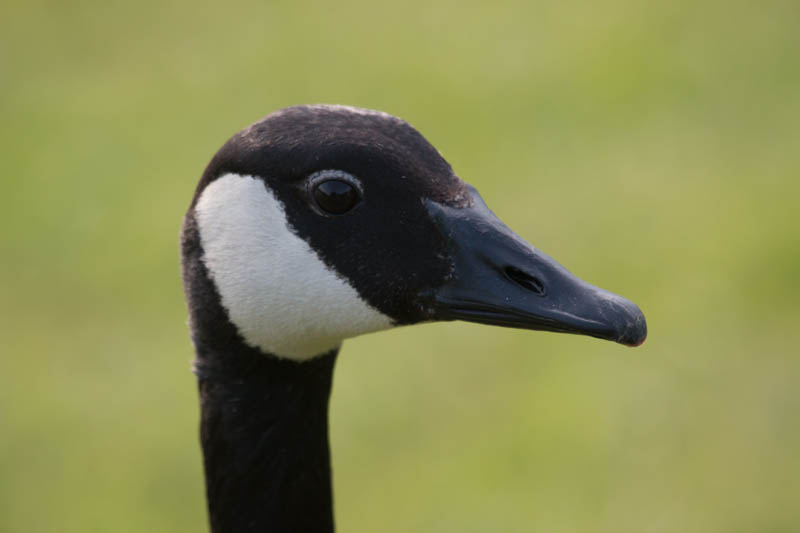goose-head: (179, 102, 648, 366)
